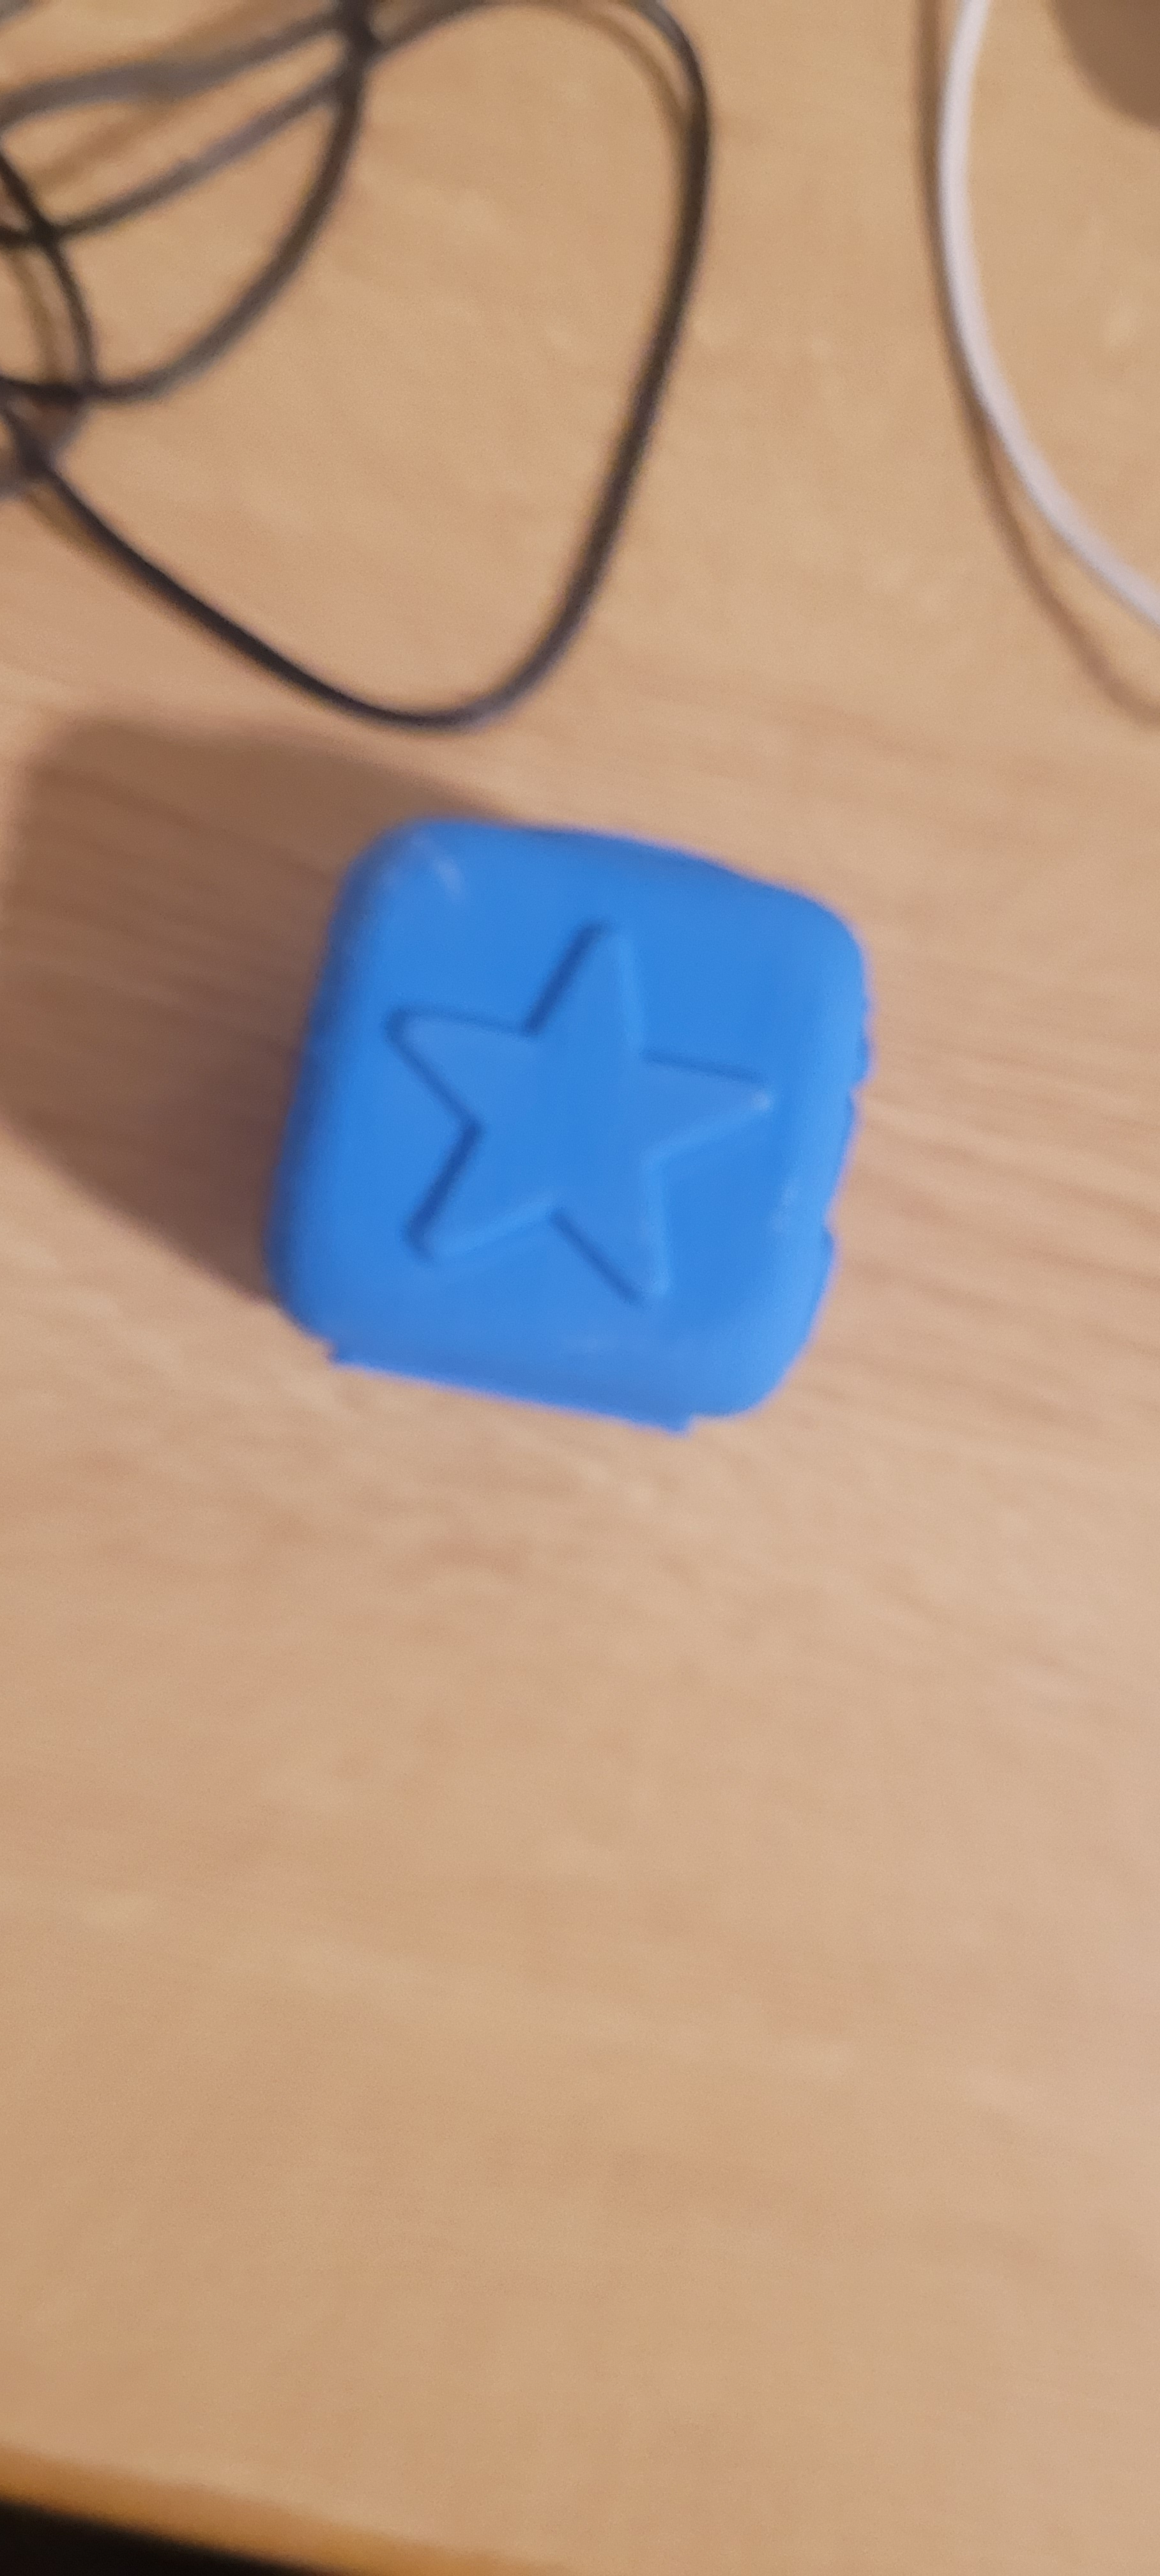Star: (380, 851, 815, 1373)
